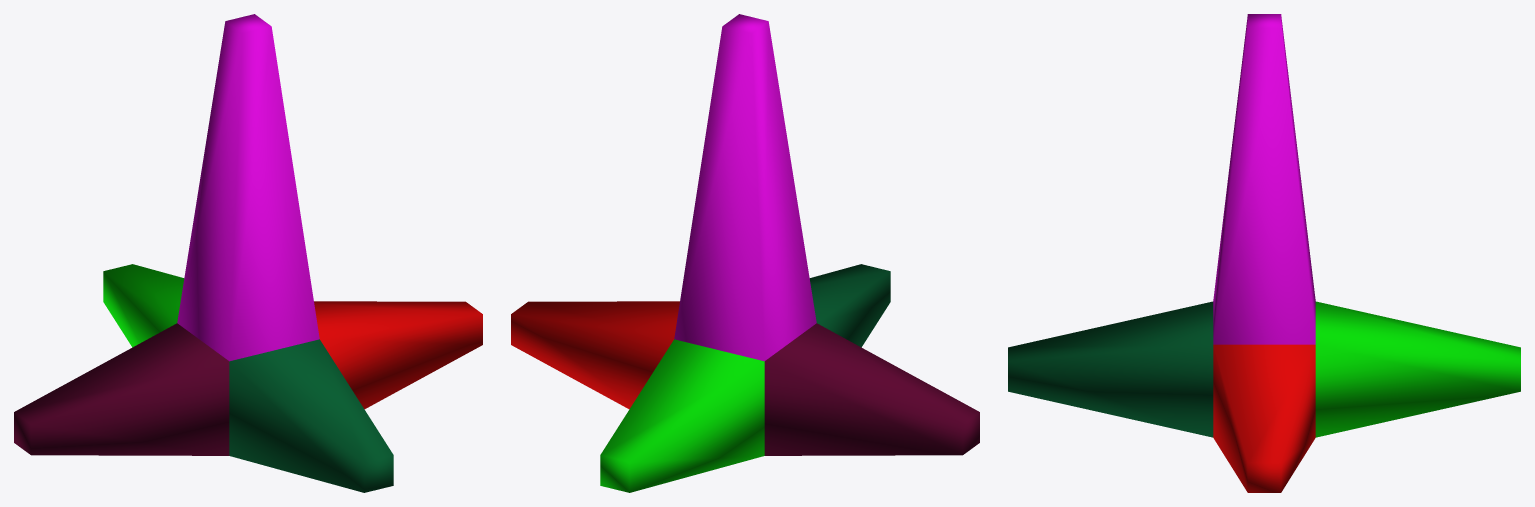
File: 3d crosshair.glb
3 views of the same model, side by side, from view 1: azimuth 30°, elevation 25°; view 2: azimuth 150°, elevation 25°; view 3: azimuth 270°, elevation 25° (orthographic).
Parts seen in each view (by area): view 1: Cube; view 2: Cube; view 3: Cube.
Boxes of the visible parts, box(x1,y1,x2,y2) form: Cube: box(14, 14, 482, 492); Cube: box(511, 14, 979, 492); Cube: box(1008, 14, 1520, 492).
Size of the model in its own units: 0.4 by 0.34 by 0.4.
